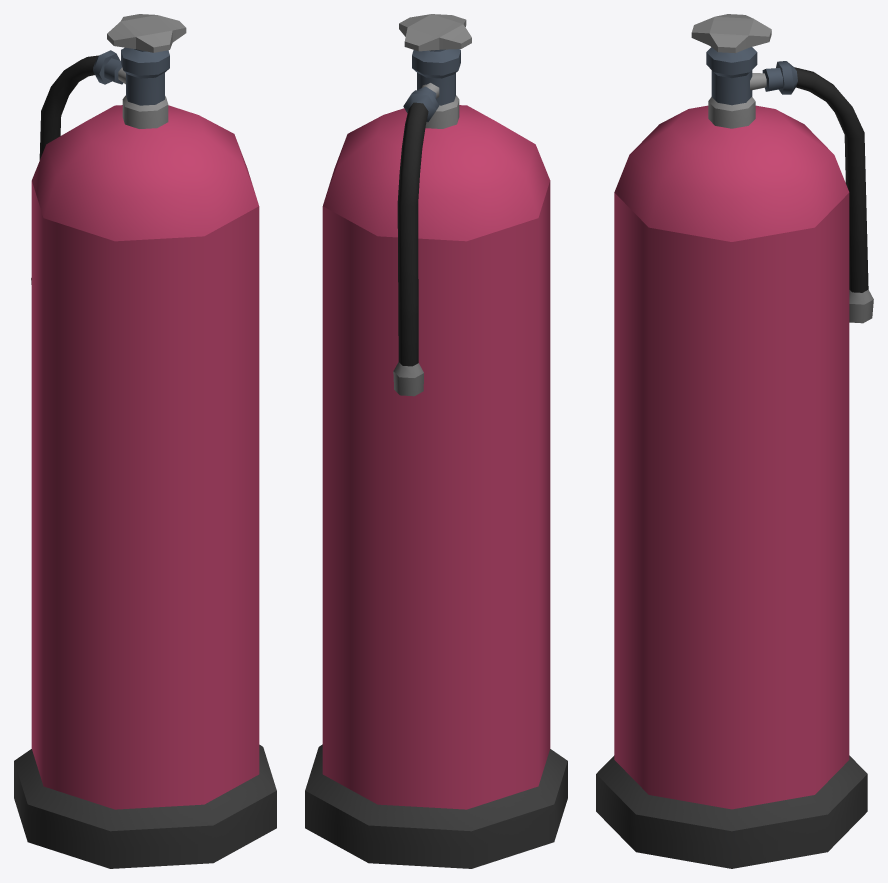
The model's file is GasCylinder_1_5.fbx.
3 views of the same model, side by side, from view 1: azimuth 30°, elevation 25°; view 2: azimuth 150°, elevation 25°; view 3: azimuth 270°, elevation 25° (orthographic).
Visible parts, largest first — view 1: GasCylinder_1_5; view 2: GasCylinder_1_5; view 3: GasCylinder_1_5.
Part boxes in pixels (x1=…): GasCylinder_1_5: x1=14, y1=14, x2=276, y2=868; GasCylinder_1_5: x1=305, y1=14, x2=567, y2=868; GasCylinder_1_5: x1=596, y1=14, x2=873, y2=868.
Bounding box in the file's own units: 27.47 × 87.73 × 28.1.
